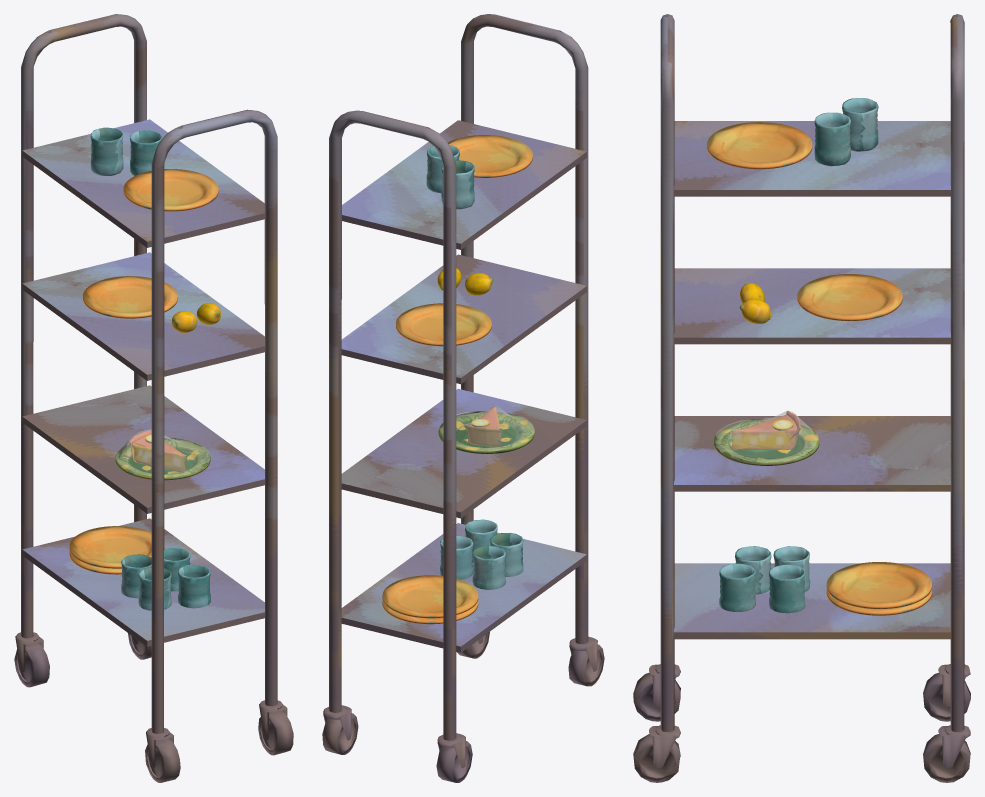
The model's file is LO_trolley.glb.
3 renders of one model, left to right at view 1: azimuth 30°, elevation 25°; view 2: azimuth 150°, elevation 25°; view 3: azimuth 270°, elevation 25°, orthographic. The views are drawn at different scales.
Visible parts, largest first — view 1: trolley.001, pieplate, plate.005, plate.004, plate.003, foil, cup.001, cup.002, cup.003; view 2: trolley.001, pieplate, plate.003, plate.005, foil, plate.004, cup.003, cup.001, cup.002, plate.002, lemon.003; view 3: trolley.001, pieplate, plate.004, plate.005, plate.003, foil, cup.001, cup.002, cup.003, plate.002, lemon.002.
Boxes of the visible parts, x1=… form: trolley.001: x1=14, y1=14, x2=293, y2=782; pieplate: x1=115, y1=430, x2=210, y2=480; plate.005: x1=83, y1=276, x2=177, y2=318; plate.004: x1=123, y1=169, x2=218, y2=211; plate.003: x1=69, y1=526, x2=164, y2=568; foil: x1=116, y1=429, x2=209, y2=476; cup.001: x1=90, y1=127, x2=162, y2=175; cup.002: x1=138, y1=564, x2=210, y2=610; cup.003: x1=121, y1=547, x2=190, y2=598; trolley.001: x1=322, y1=14, x2=604, y2=782; pieplate: x1=438, y1=406, x2=534, y2=453; plate.003: x1=382, y1=575, x2=478, y2=618; plate.005: x1=396, y1=303, x2=491, y2=346; foil: x1=439, y1=405, x2=534, y2=450; plate.004: x1=447, y1=135, x2=532, y2=177; cup.003: x1=440, y1=535, x2=505, y2=589; cup.001: x1=426, y1=145, x2=474, y2=209; cup.002: x1=465, y1=519, x2=523, y2=576; plate.002: x1=382, y1=600, x2=478, y2=624; lemon.003: x1=464, y1=273, x2=493, y2=295; trolley.001: x1=633, y1=14, x2=970, y2=782; pieplate: x1=714, y1=410, x2=819, y2=465; plate.004: x1=707, y1=122, x2=812, y2=169; plate.005: x1=797, y1=274, x2=902, y2=320; plate.003: x1=826, y1=562, x2=931, y2=608; foil: x1=715, y1=410, x2=817, y2=462; cup.001: x1=814, y1=98, x2=878, y2=166; cup.002: x1=719, y1=546, x2=771, y2=611; cup.003: x1=769, y1=546, x2=810, y2=613; plate.002: x1=826, y1=589, x2=931, y2=615; lemon.002: x1=739, y1=299, x2=771, y2=323.
Size of the model in its own units: 0.4837 by 2.23 by 0.9544.
Materials: 5 (4 with a texture image).
